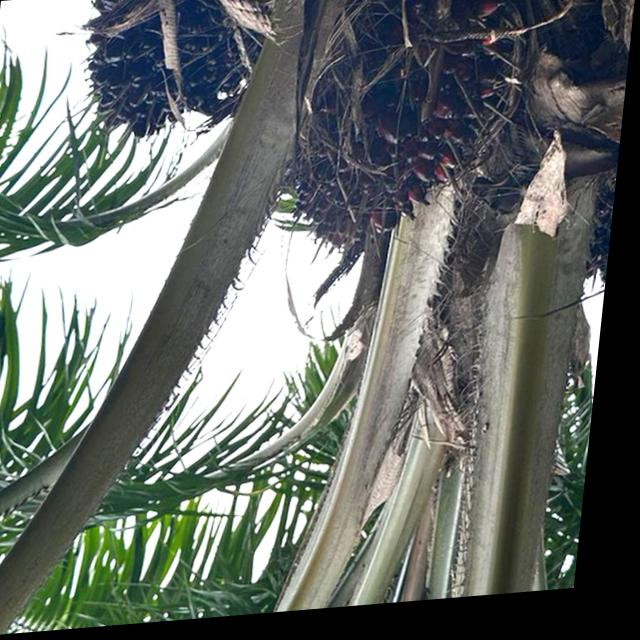ripe: (261, 0, 541, 295)
